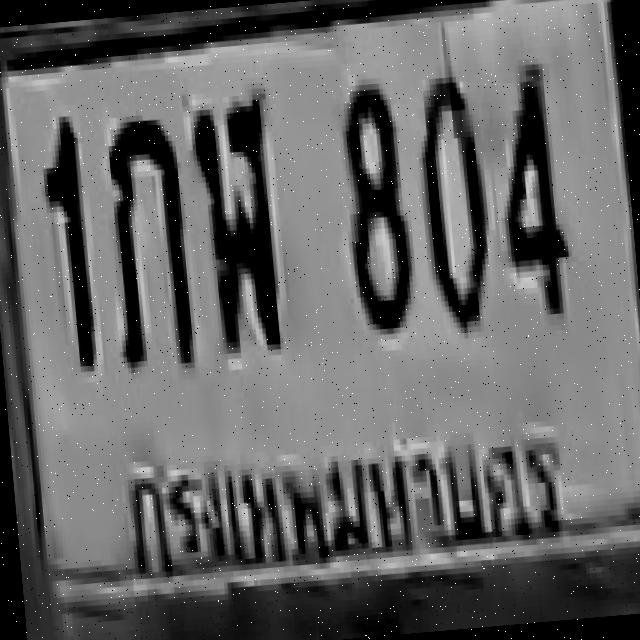0: (411, 70, 494, 330)
1: (33, 112, 95, 366)
10GorGai: (99, 112, 194, 368)
4: (491, 59, 574, 320)
51LorChula: (188, 88, 287, 350)
8: (335, 79, 417, 334)
Bangkok: (111, 397, 588, 605)
